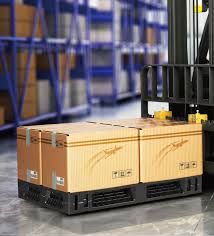box: (67, 128, 138, 194), (138, 122, 201, 182), (40, 130, 67, 190), (15, 126, 41, 184)
pallet: (14, 172, 205, 216)
